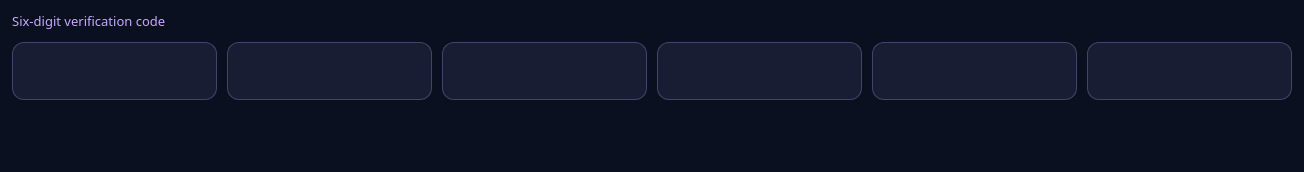
Test case: accepts a full pasted code, advances focus and supports backspace navigation
Click the field named "Digit 1" at (114, 70), box [12, 42, 217, 100]
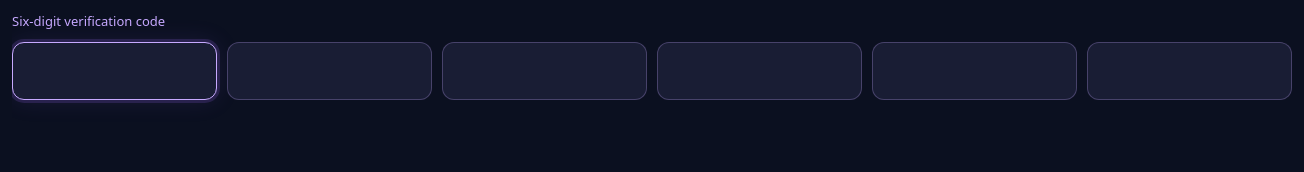
Type keys "123456"
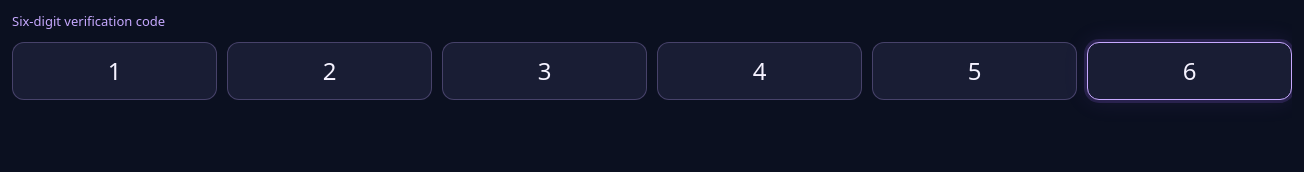
Check: the field named "Digit 6" holds "6", box [1087, 42, 1292, 100]
Press Backspace Backspace
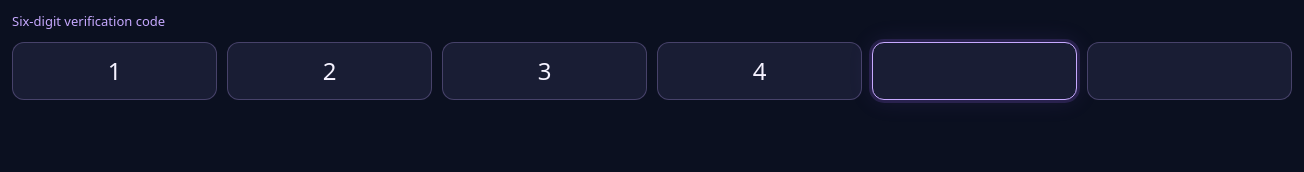
Check: the field named "Digit 5" is empty, box [872, 42, 1077, 100]
